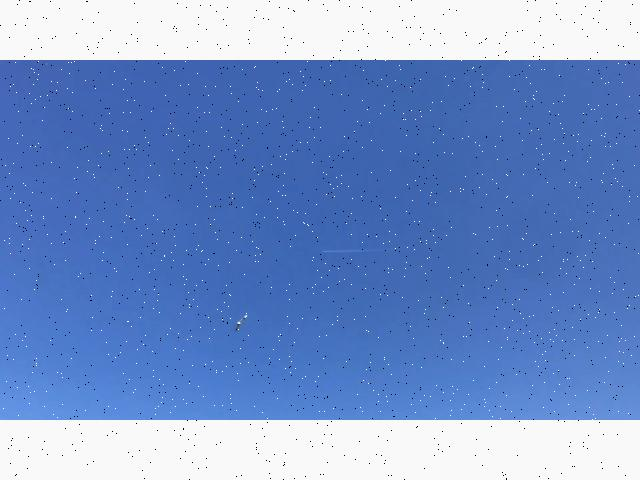Anti-Drone: (222, 307, 260, 337)
